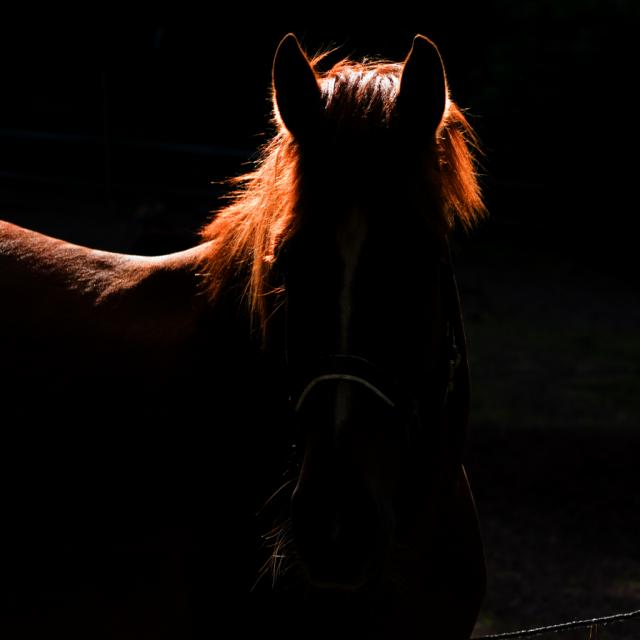Horse: (0, 29, 490, 639)
